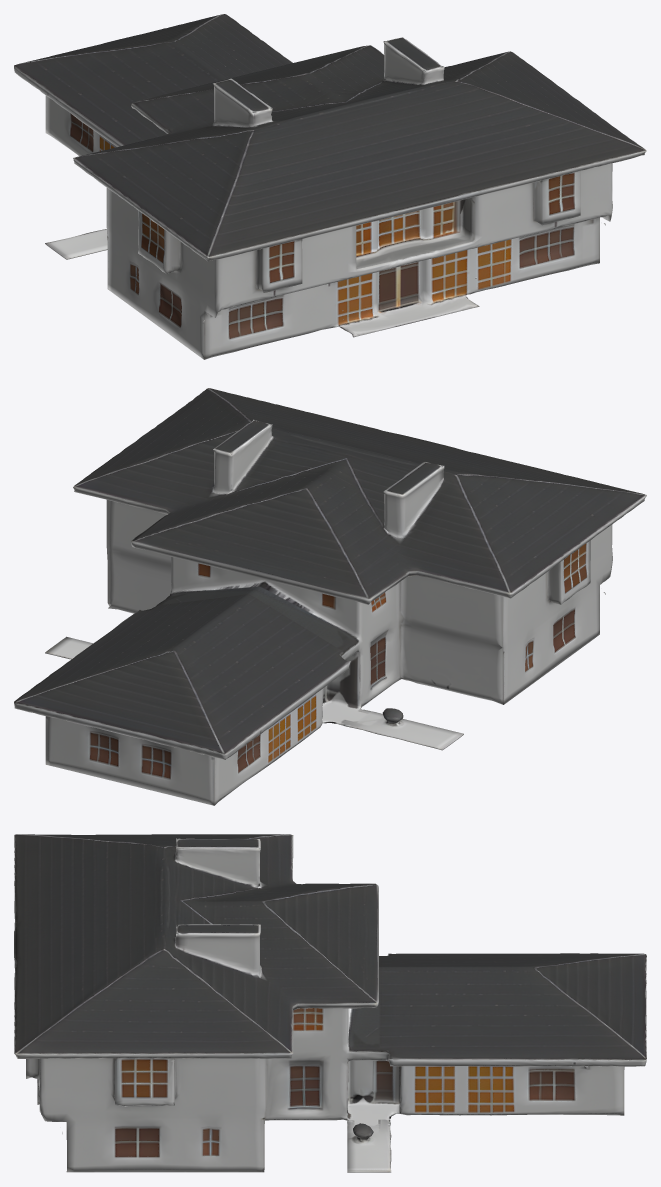
Rendered from object_2_lev2.glb.
The picture shows the model from 3 angles, top to bottom: view 1: azimuth 30°, elevation 25°; view 2: azimuth 150°, elevation 25°; view 3: azimuth 270°, elevation 25°; orthographic projection. The views are drawn at different scales.
Parts seen in each view (by area): view 1: object_2_lev2; view 2: object_2_lev2; view 3: object_2_lev2.
Boxes of the visible parts, left/top/right/bottom form: object_2_lev2: left=14, top=14, right=646, bottom=359; object_2_lev2: left=14, top=388, right=646, bottom=805; object_2_lev2: left=14, top=834, right=646, bottom=1172.
Size of the model in its own units: 23.08 by 9.17 by 28.08.
1 material, 1 textured.
